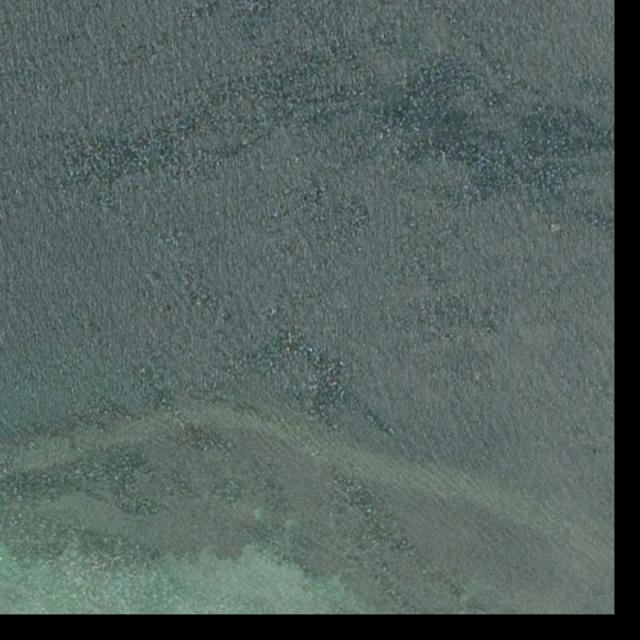ship: (547, 220, 562, 233), (474, 371, 484, 382)
